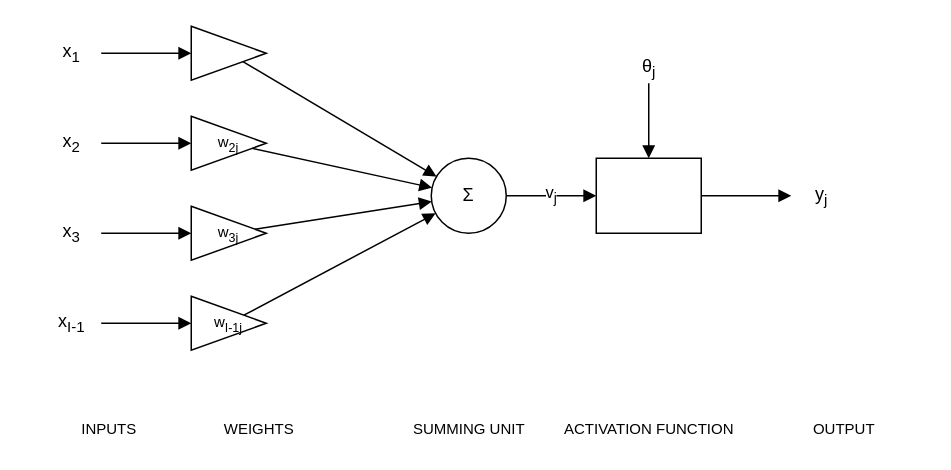
Some shapes in this 951 by 470 pixel diagram are drawn without their labels. Each missing label, with the centre of its shape:
w 1j: point 228,52
φ[.]: point 648,195
